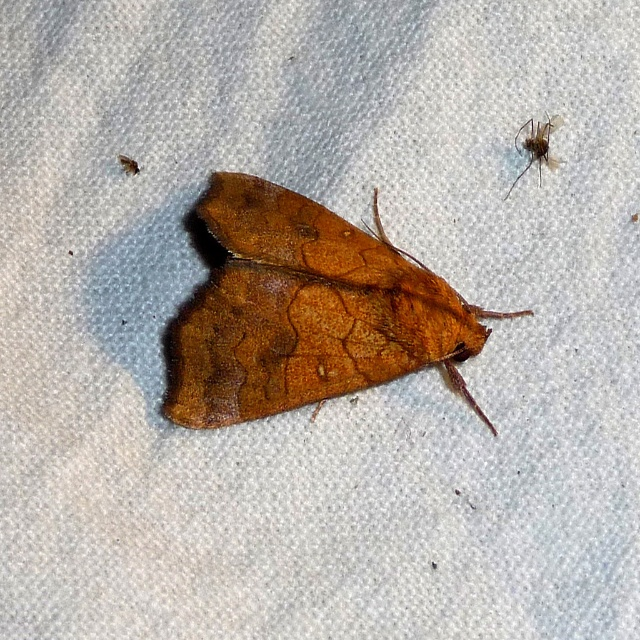Moths and butterflies: (159, 170, 538, 446)
